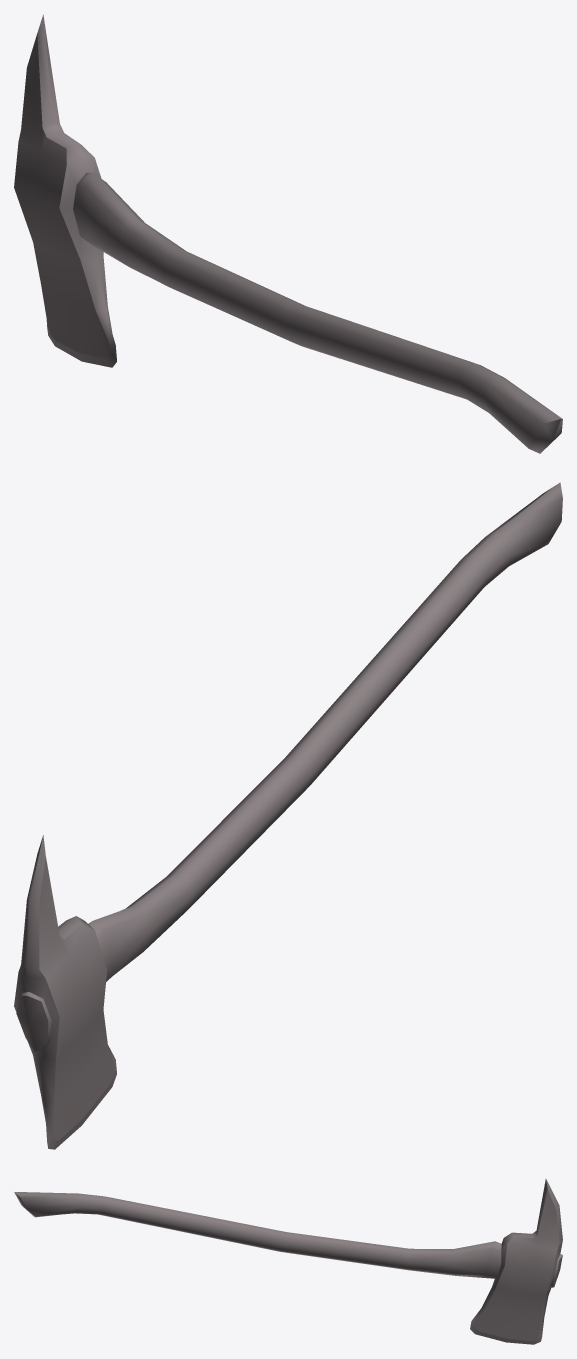
Rendered from axe.dae.
3 views of the same model, one above another, from view 1: azimuth 30°, elevation 25°; view 2: azimuth 150°, elevation 25°; view 3: azimuth 270°, elevation 25° (orthographic). The views are drawn at different scales.
Parts seen in each view (by area): view 1: Axe; view 2: Axe; view 3: Axe.
Boxes of the visible parts, x1,y1,x2,y2 form: Axe: (14,14,562,453); Axe: (14,482,562,1149); Axe: (14,1179,562,1344).
Bounding box in the file's own units: 0.0427 × 0.8245 × 0.2759.
1 material, 1 textured.
